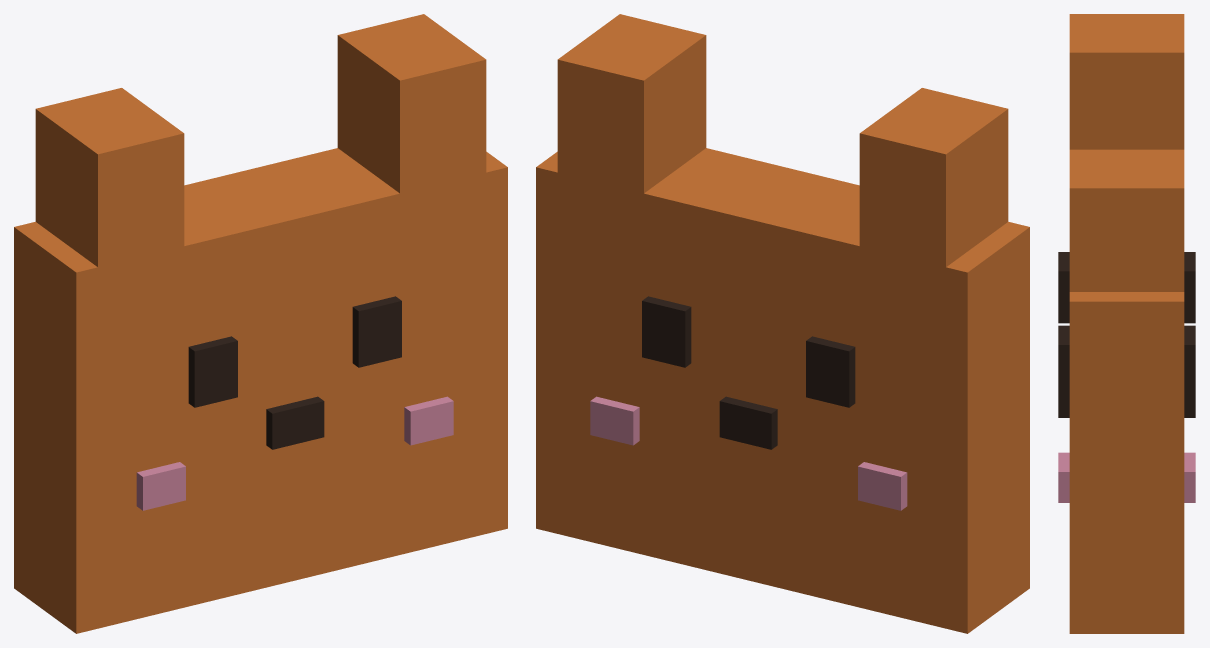
Rendered from ncb-sign-fox.glb.
3 renders of one model, left to right at view 1: azimuth 30°, elevation 25°; view 2: azimuth 150°, elevation 25°; view 3: azimuth 270°, elevation 25°, orthographic. The views are drawn at different scales.
Visible parts, largest first — view 1: box-prop; view 2: box-prop; view 3: box-prop.
Boxes of the visible parts, x1=… form: box-prop: x1=14, y1=14, x2=507, y2=633; box-prop: x1=536, y1=14, x2=1029, y2=633; box-prop: x1=1058, y1=14, x2=1195, y2=633.
Bounding box in the file's own units: 0.8 × 0.84 × 0.24.
